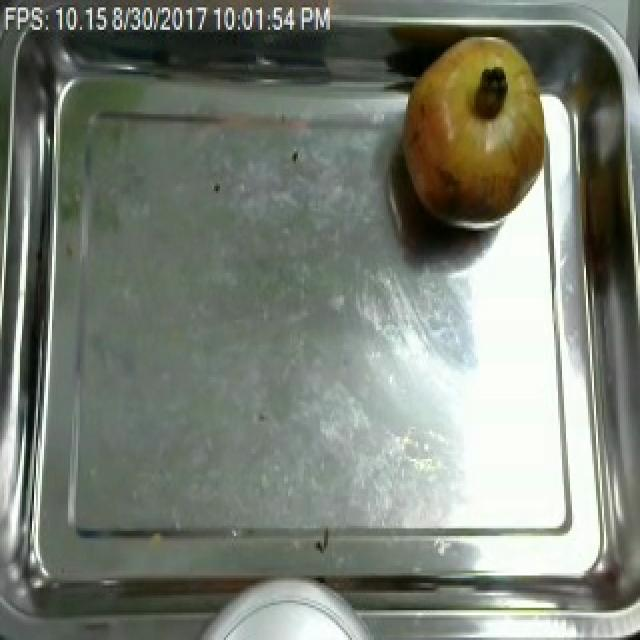fruit: (394, 27, 554, 238)
